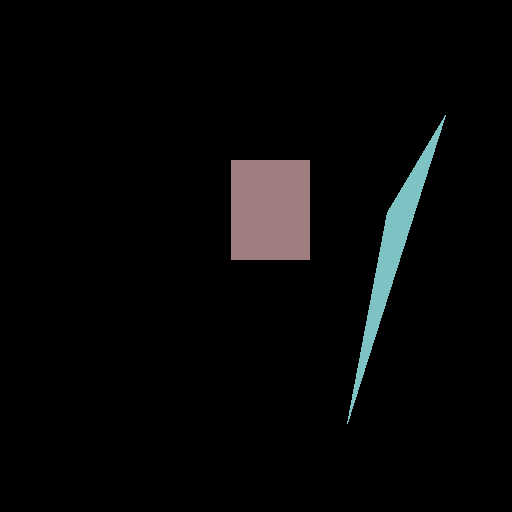rectangle: (231, 160, 309, 259)
triangle: (347, 115, 445, 423)
